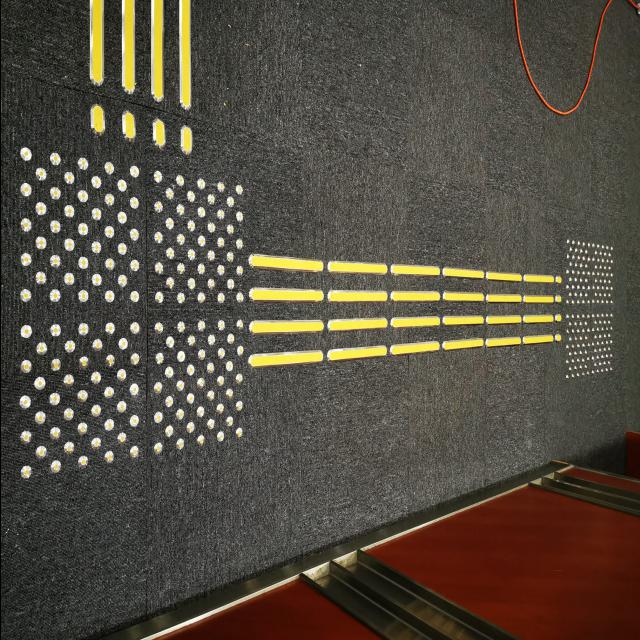tactile-guide-path: (18, 143, 246, 483), (246, 254, 561, 370), (84, 0, 194, 150), (559, 240, 613, 374)
